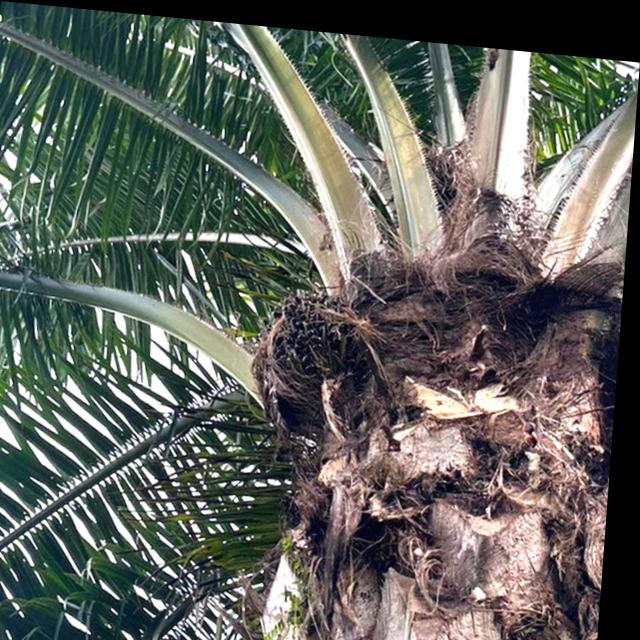unripe: (247, 272, 380, 433)
